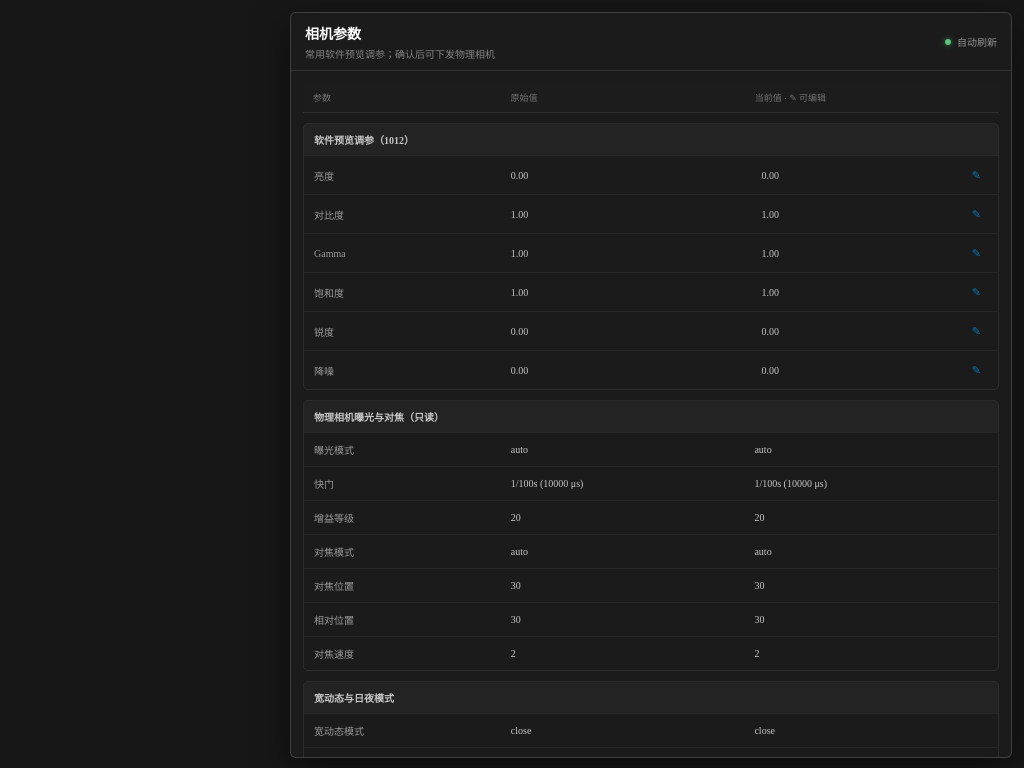
Test case: CameraParametersPanel › edits software preview values while physical camera values remain read-only
This screenshot has width=1024, height=768.
Expected: the heading "软件预览调参（1012）" is shown, x1=304 y1=124 x2=998 y2=155
Click the button named "编辑亮度" at [871, 175], box x1=754 y1=162 x2=988 y2=188
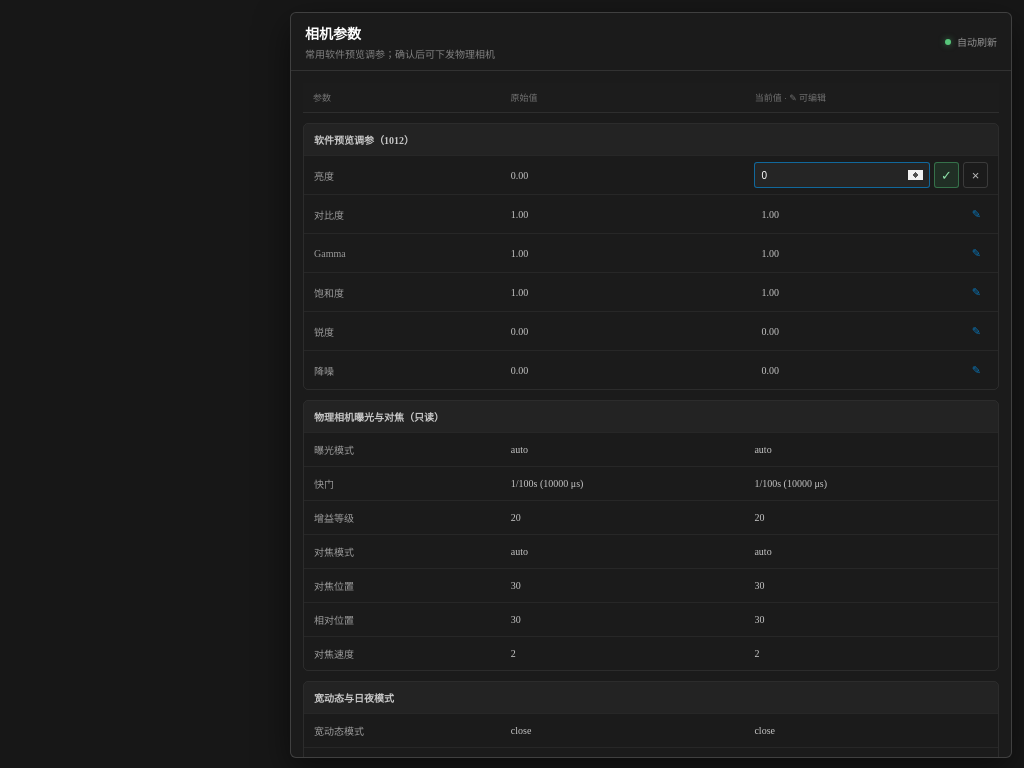
Replace the text in the number field named "亮度当前值" with "0.25" at [842, 175], box x1=754 y1=162 x2=930 y2=188
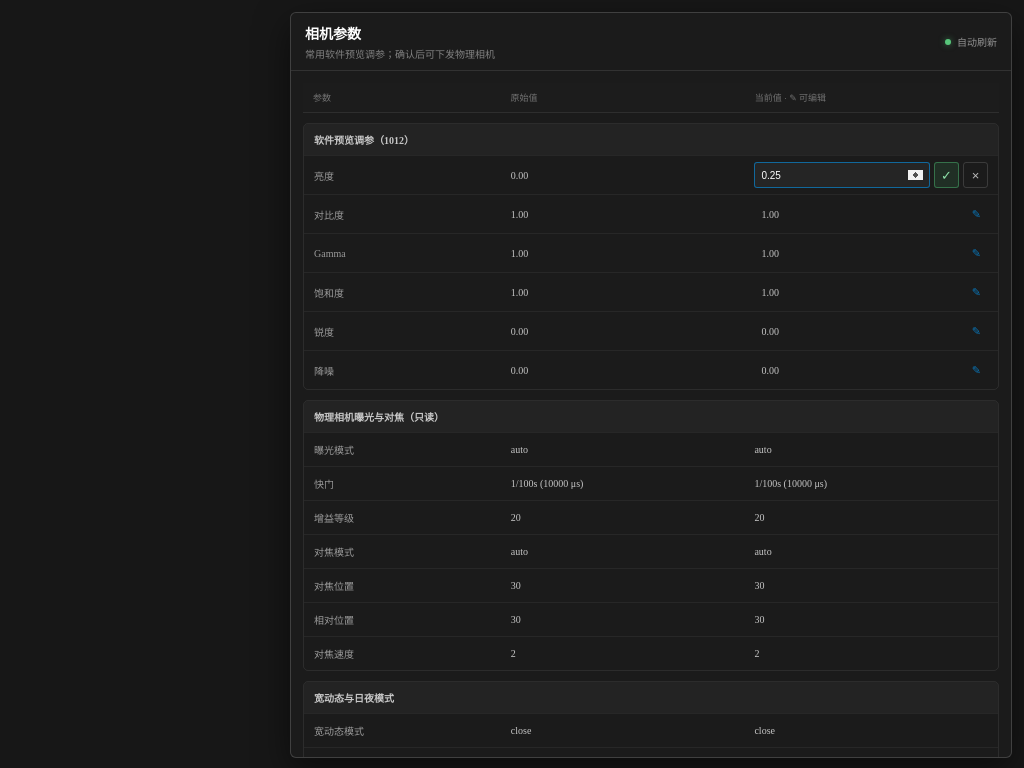
Submit the form named "亮度当前值", box x1=754 y1=162 x2=988 y2=188
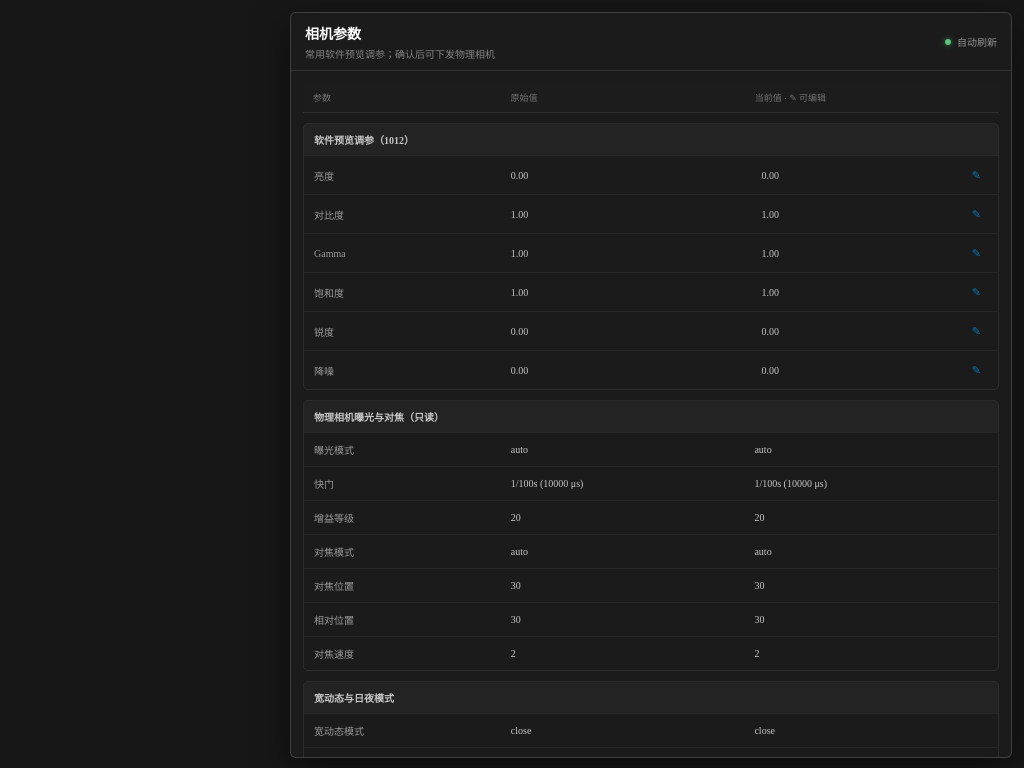
Result: the number field labelled "亮度当前值" is gone
